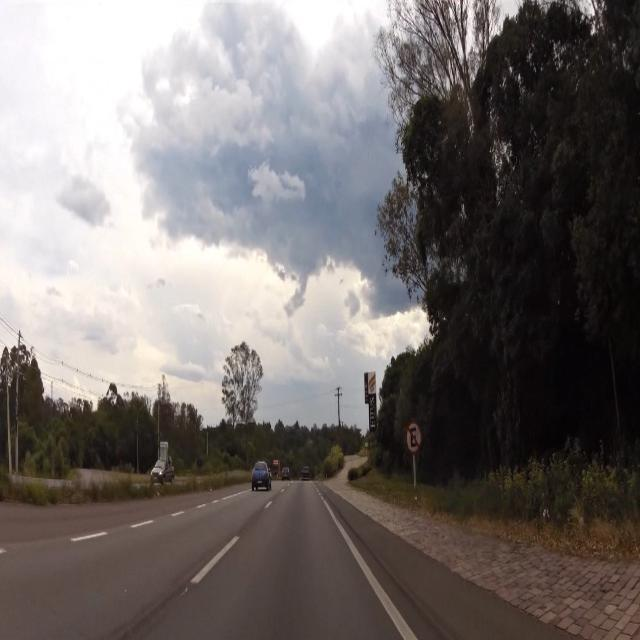R-6a: (406, 422, 422, 454)
